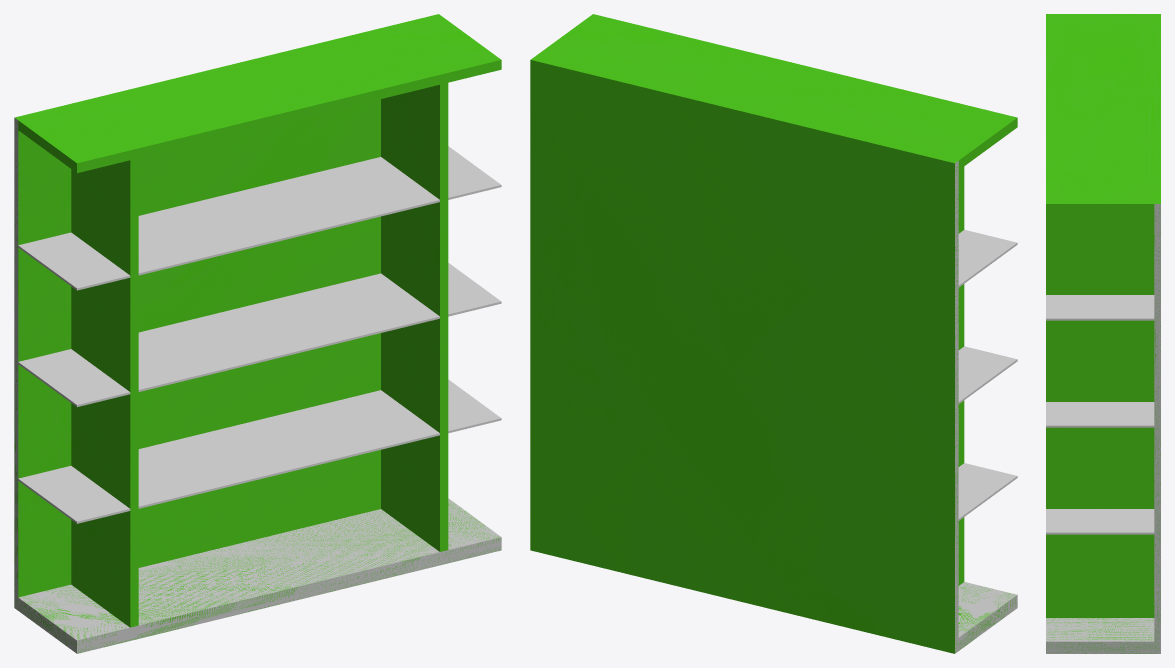
File: bookshelf.dae
The picture shows the model from 3 angles, left to right: view 1: azimuth 30°, elevation 25°; view 2: azimuth 150°, elevation 25°; view 3: azimuth 270°, elevation 25°; orthographic projection. The views are drawn at different scales.
Visible parts, largest first — view 1: SketchUp_001, SketchUp, SketchUp_010, SketchUp_003, SketchUp_004, SketchUp_005, SketchUp_008, SketchUp_009, SketchUp_007, SketchUp_006; view 2: SketchUp_001, SketchUp, SketchUp_010, SketchUp_008, SketchUp_005; view 3: SketchUp_001, SketchUp, SketchUp_009, SketchUp_007, SketchUp_006.
Part boxes in pixels (x1,y1,x2,y2): SketchUp_001: [15, 14, 501, 627]; SketchUp: [14, 117, 501, 653]; SketchUp_010: [18, 390, 439, 523]; SketchUp_003: [138, 157, 439, 275]; SketchUp_004: [138, 273, 439, 391]; SketchUp_005: [18, 232, 130, 290]; SketchUp_008: [18, 349, 130, 406]; SketchUp_009: [448, 379, 501, 433]; SketchUp_007: [448, 263, 501, 316]; SketchUp_006: [448, 146, 501, 199]; SketchUp_001: [530, 14, 1017, 653]; SketchUp: [955, 161, 1017, 653]; SketchUp_010: [958, 463, 1017, 520]; SketchUp_008: [958, 346, 1017, 403]; SketchUp_005: [958, 229, 1017, 287]; SketchUp_001: [1046, 14, 1160, 617]; SketchUp: [1046, 204, 1160, 653]; SketchUp_009: [1046, 509, 1154, 534]; SketchUp_007: [1046, 402, 1154, 427]; SketchUp_006: [1046, 295, 1154, 320].
Size of the model in its own units: 1.66 by 0.425 by 1.84.
